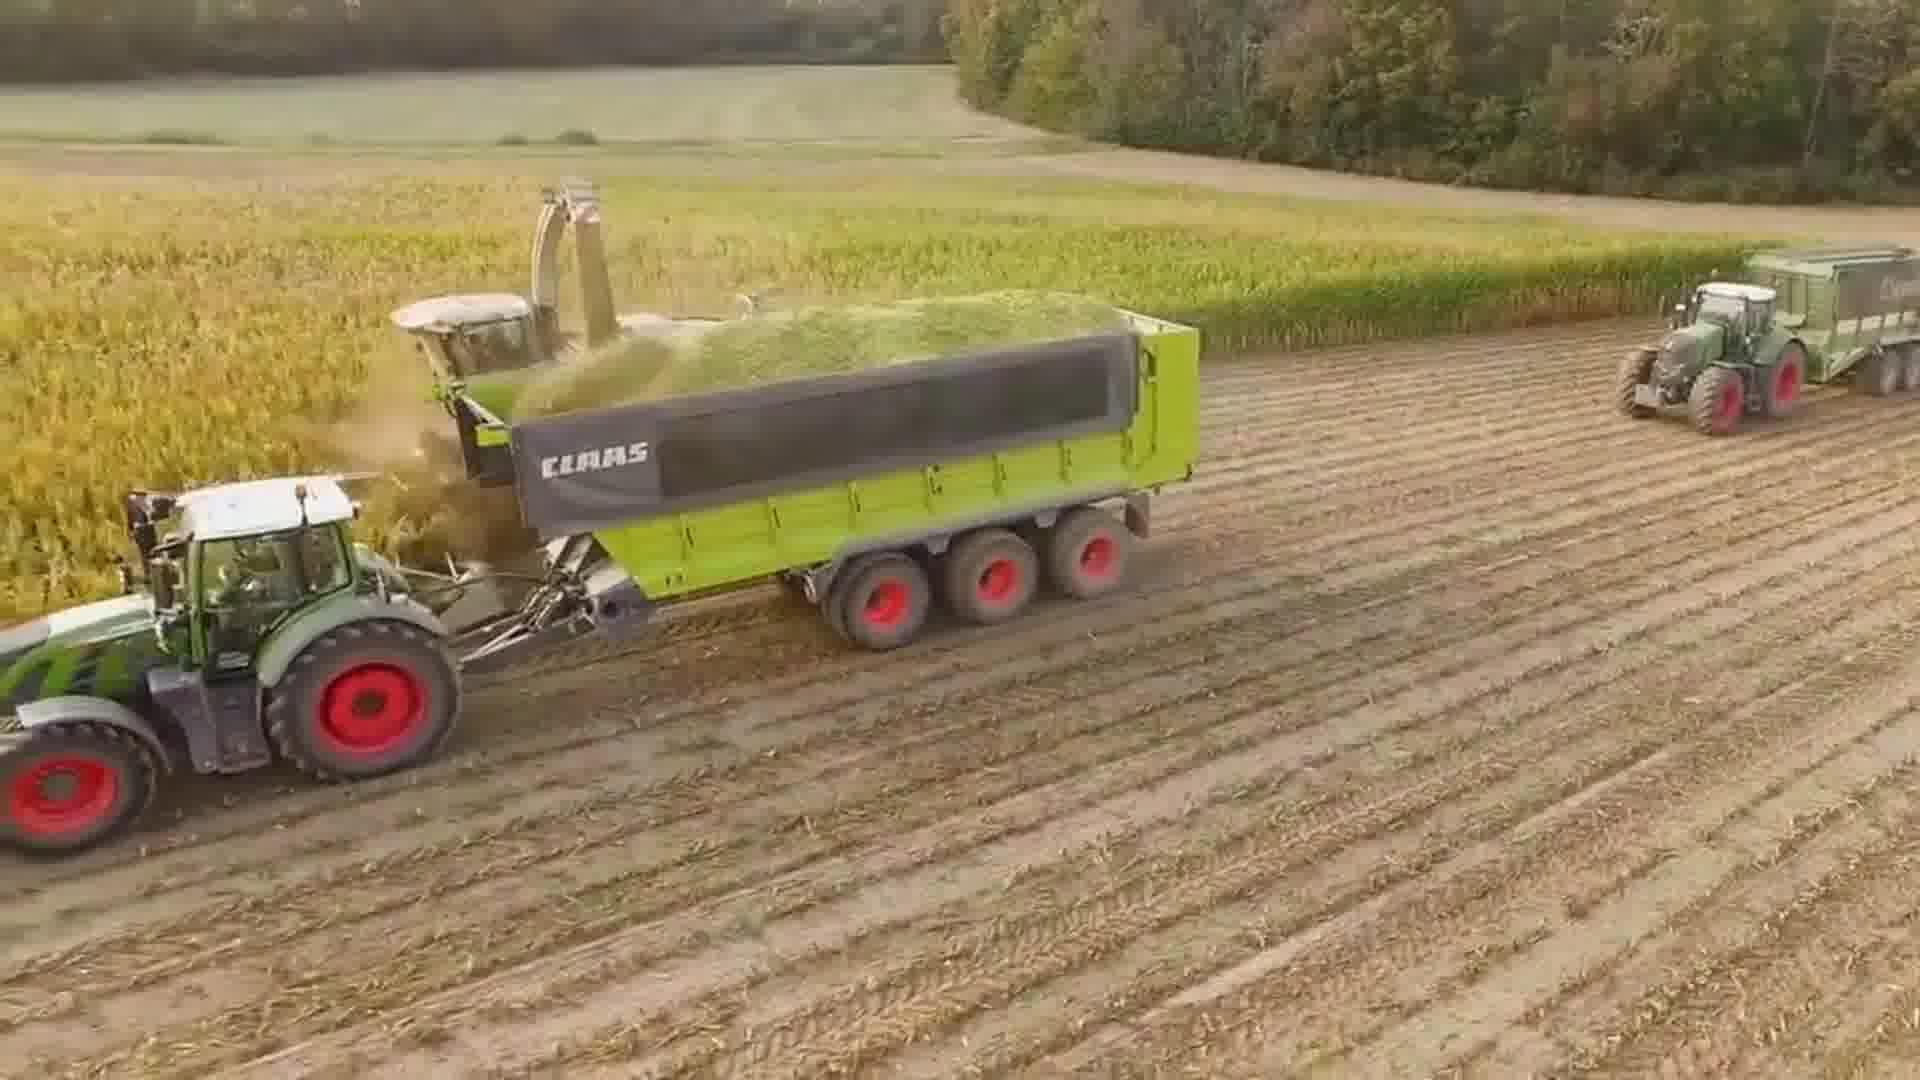combine harvester: (382, 167, 703, 376)
tractor: (0, 455, 481, 864), (1610, 277, 1813, 442)
trailer: (421, 282, 1211, 654), (1734, 239, 1920, 400)
